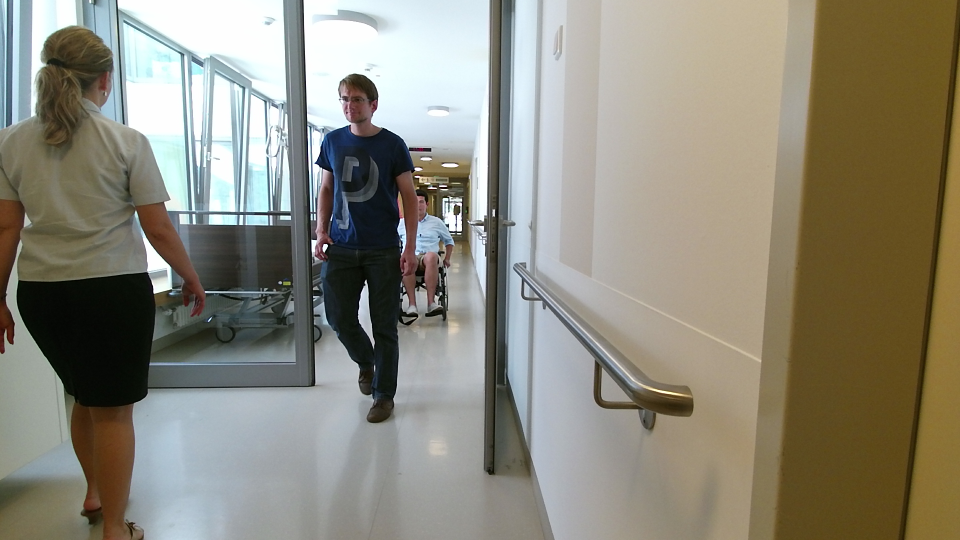wheelchair: (389, 192, 449, 324)
